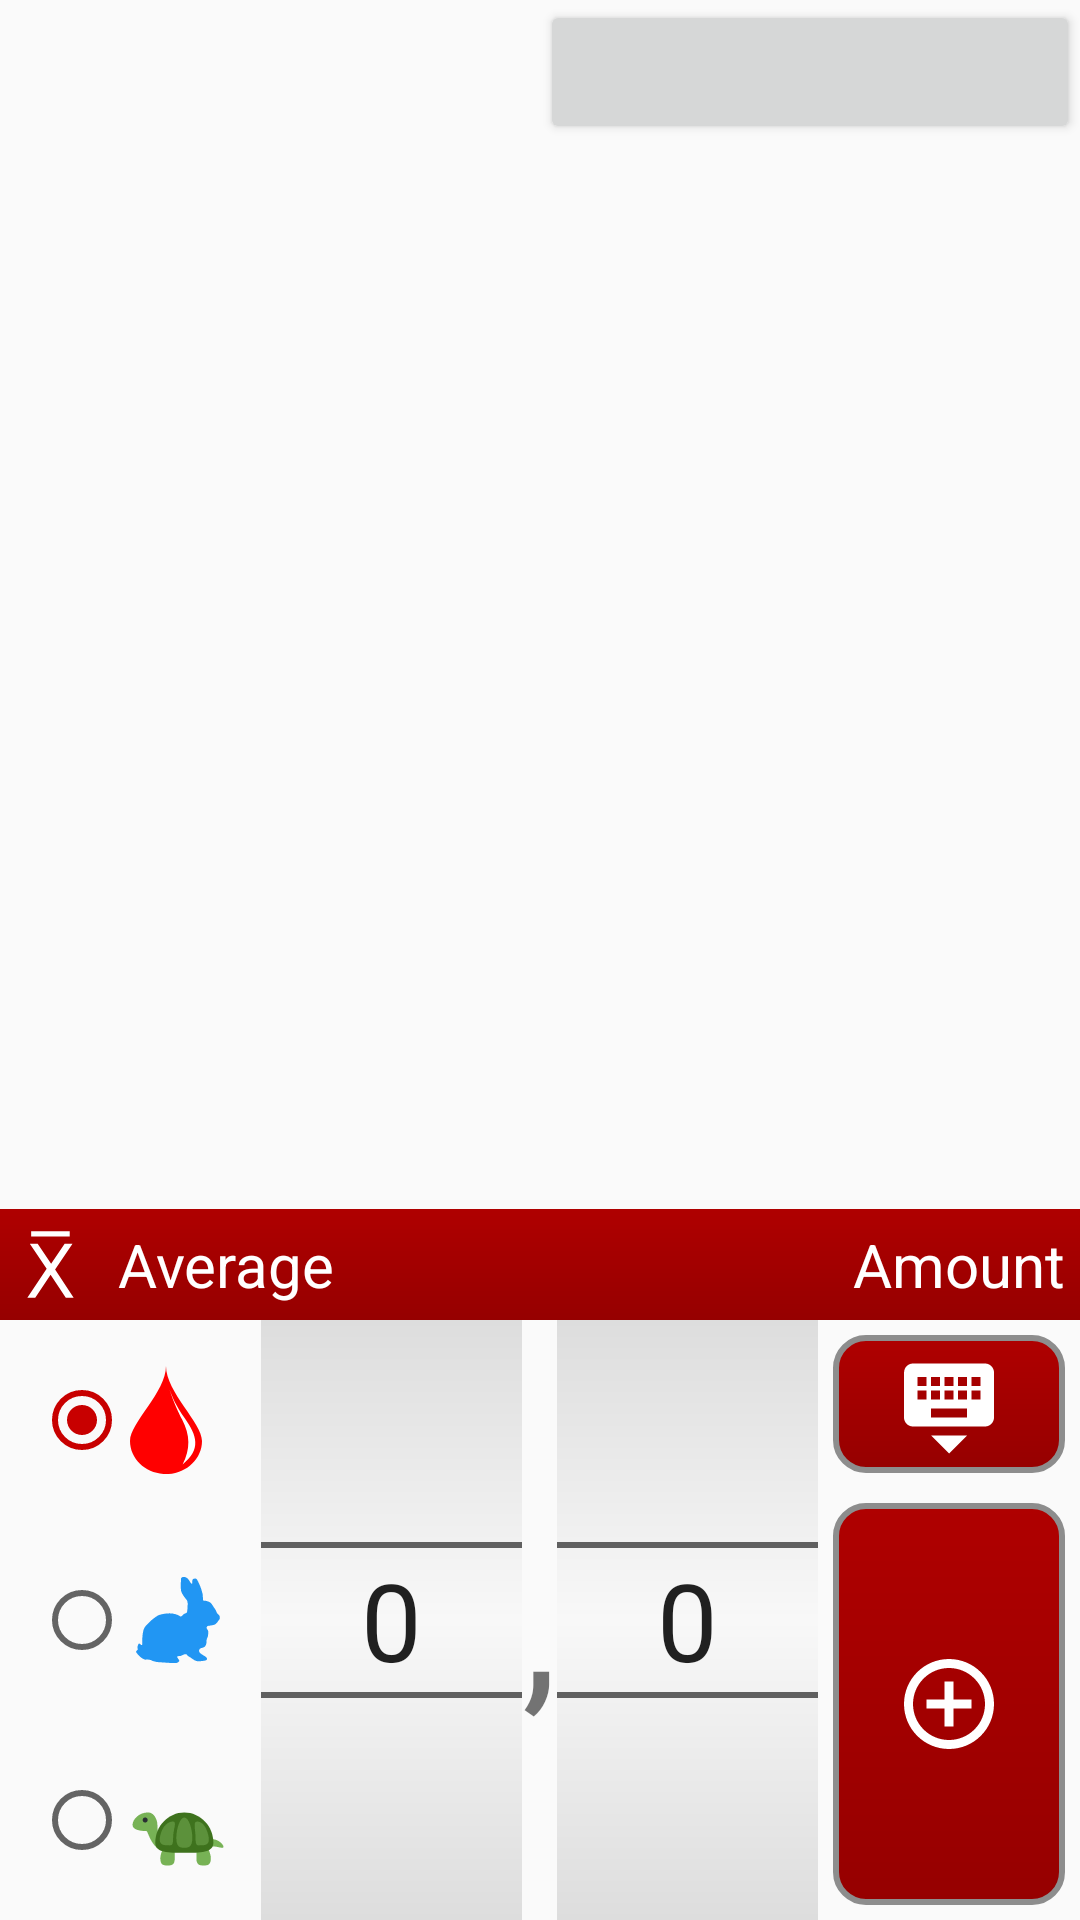

Screen size 1080w x 1920h. Icon name, then its center in pixels as point (x, y):
keyboard hide: point (949, 1404)
